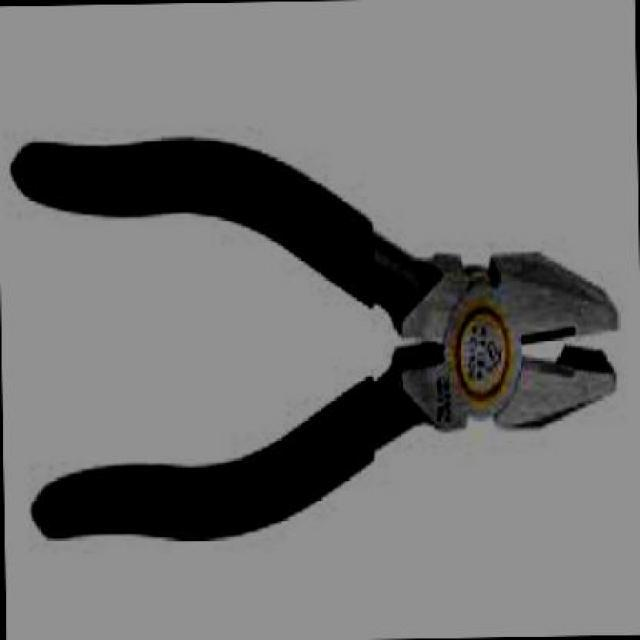pliers: (0, 112, 638, 567)
